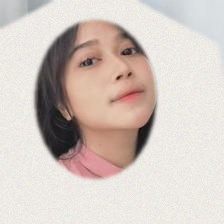Mukena: (0, 27, 207, 224)
